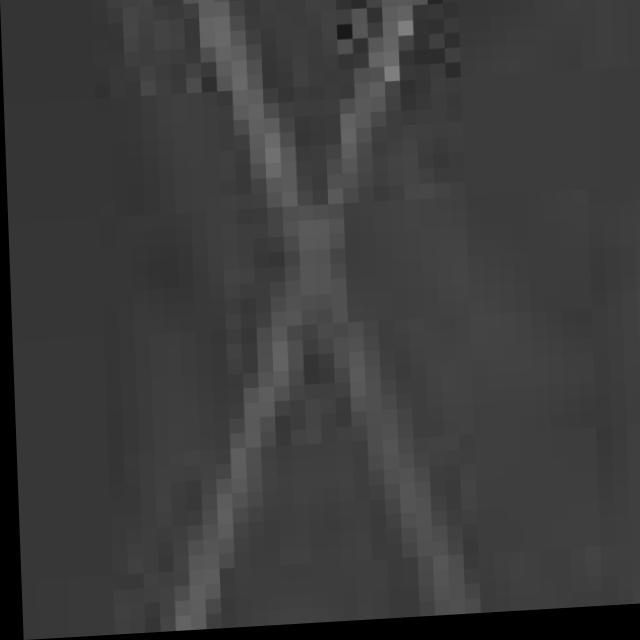fracture: (2, 0, 640, 612)
